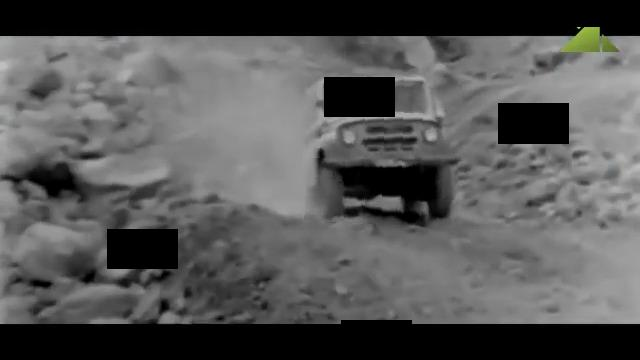MIL_HMMWV: (306, 73, 461, 226)
